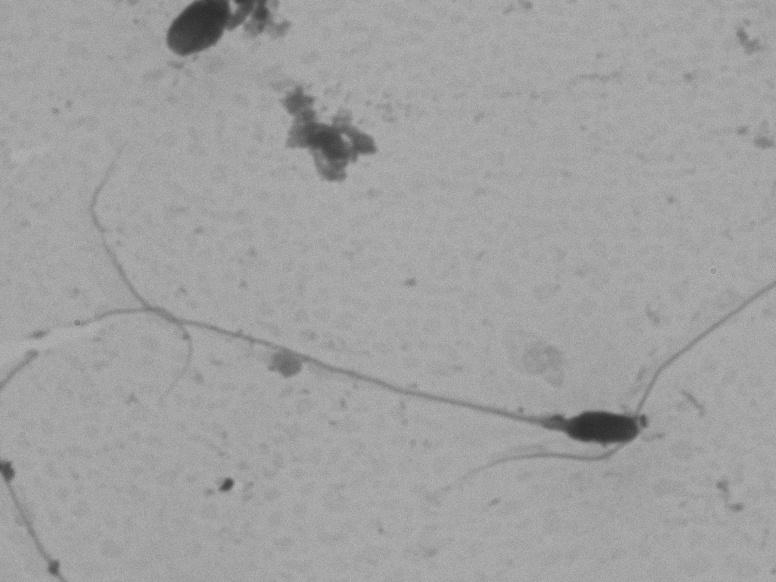Abnormal: (83, 143, 652, 466)
